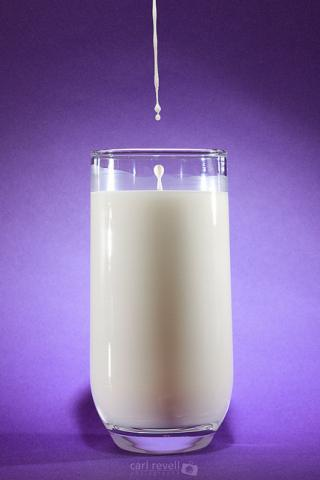glass of milk: (90, 143, 231, 442)
